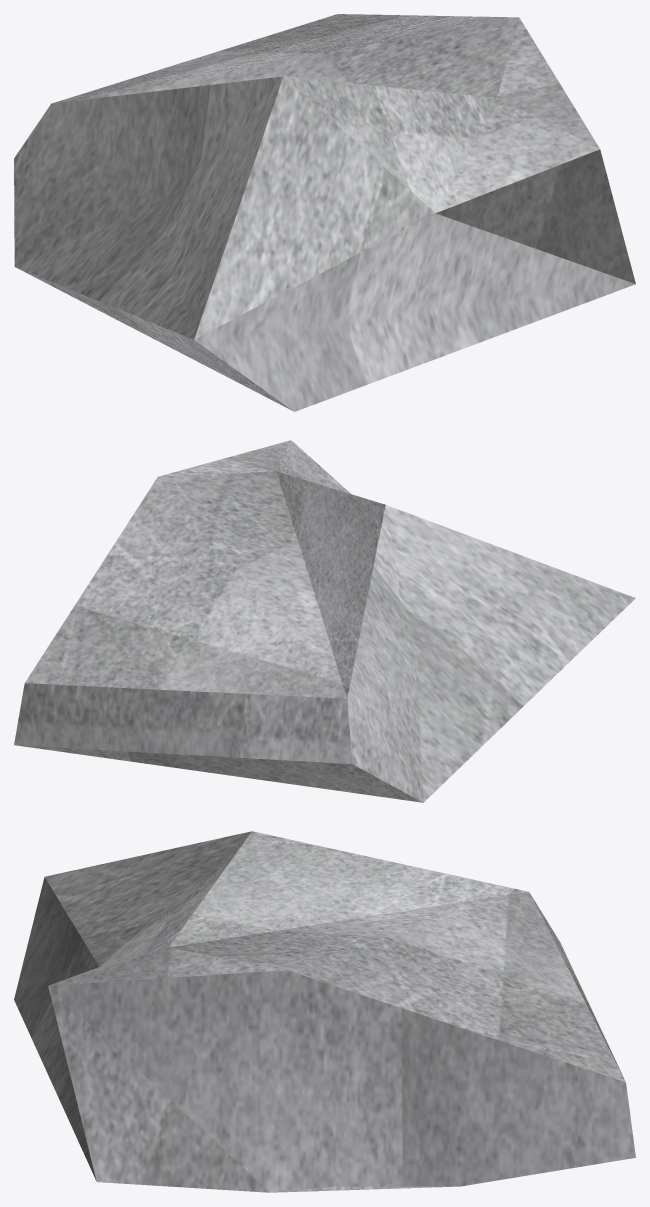
File: Rock_v2.fbx
The picture shows the model from 3 angles, top to bottom: view 1: azimuth 30°, elevation 25°; view 2: azimuth 150°, elevation 25°; view 3: azimuth 270°, elevation 25°; orthographic projection. The views are drawn at different scales.
Visible parts, largest first — view 1: Rock2; view 2: Rock2; view 3: Rock2.
Part boxes in pixels (x1,y1,x2,y2): Rock2: [14, 14, 635, 411]; Rock2: [14, 440, 635, 802]; Rock2: [14, 831, 635, 1192].
Size of the model in its own units: 152 by 72.25 by 174.
